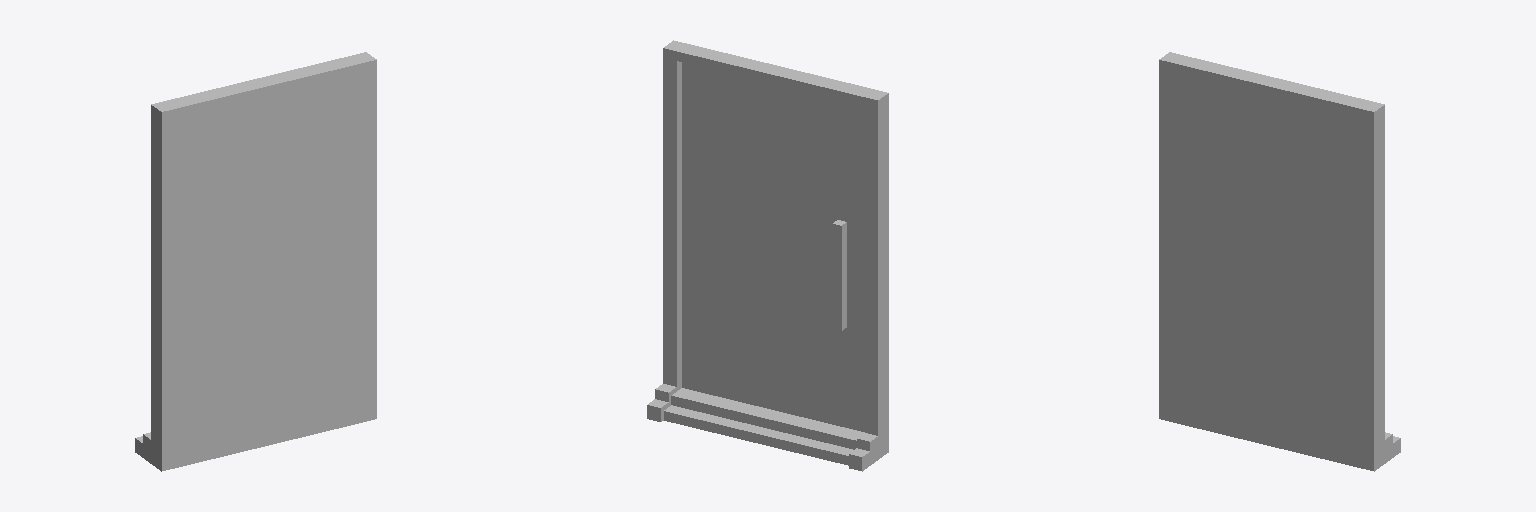
The model's file is porta_quadrada2.obj.
The picture shows the model from 3 angles: view 1: azimuth 30°, elevation 25°; view 2: azimuth 150°, elevation 25°; view 3: azimuth 330°, elevation 25°; orthographic projection.
Visible parts, largest first — view 1: porta_quadrada2; view 2: porta_quadrada2; view 3: porta_quadrada2.
Part boxes in pixels (x1,y1,x2,y2): porta_quadrada2: (135,52,376,471); porta_quadrada2: (647,40,888,471); porta_quadrada2: (1159,52,1400,471).
Size of the model in its own units: 47 by 75 by 10.